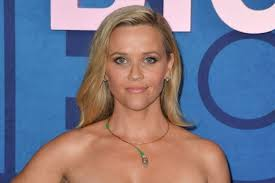middle_eastern_Female: (99, 16, 171, 113)
